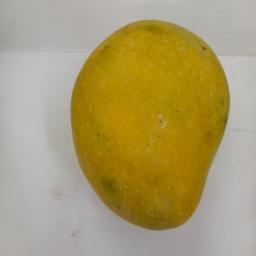Mango Semifresh: (33, 0, 256, 245)
